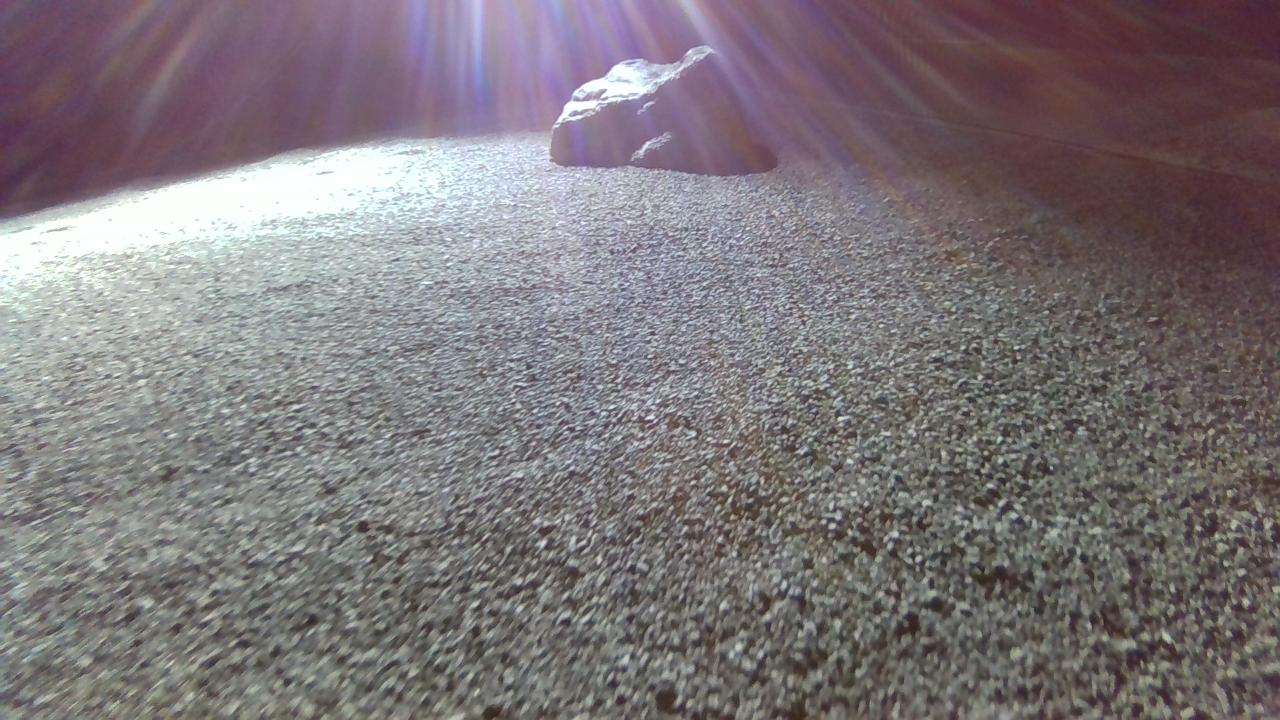rock: (550, 44, 761, 175)
